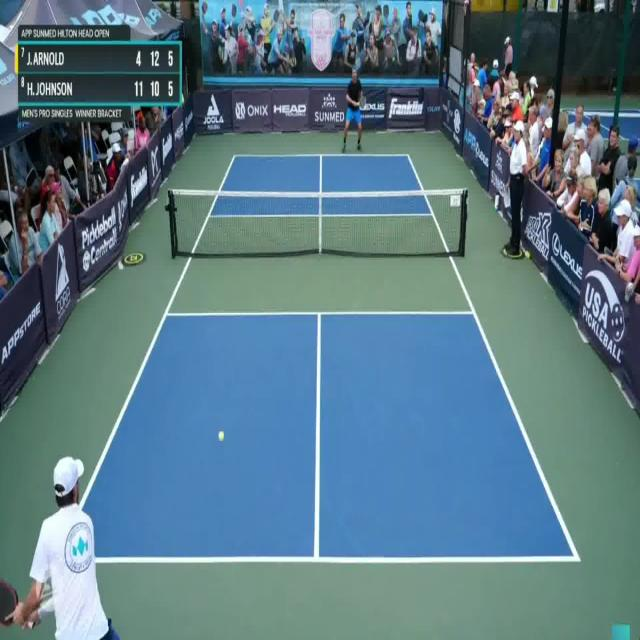Court: (53, 156, 580, 563)
ball: (217, 429, 226, 446)
